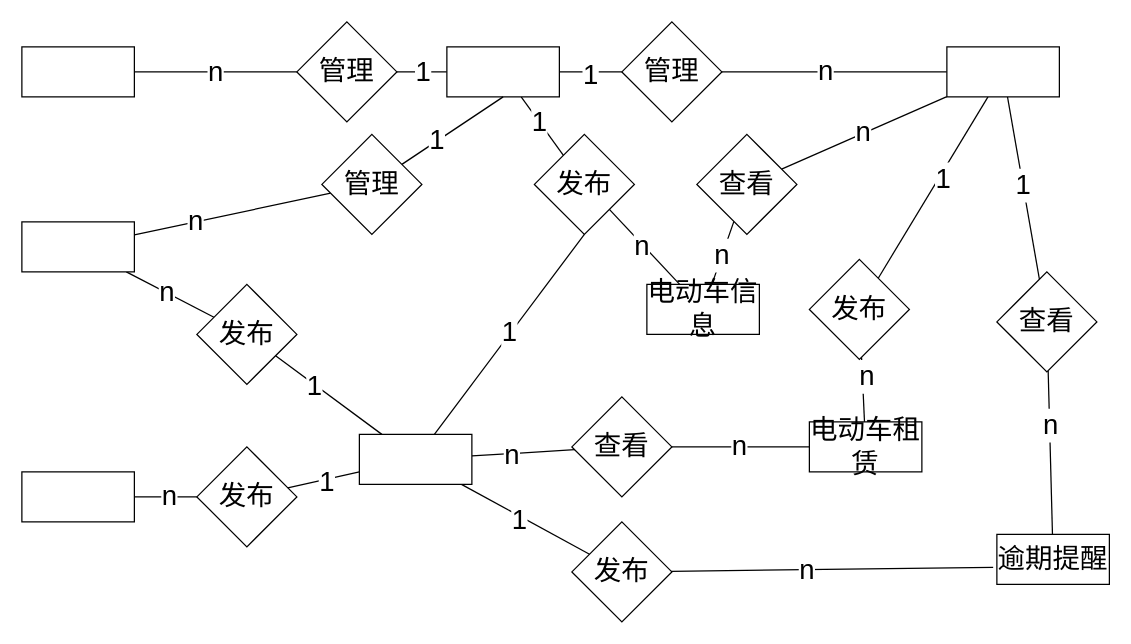
Image size: 1131x644. Some labels were removed from this diagram. The centre of each missing label's shape, as x and y in pixels:
"检验员" goes at pixel 415 458.
"用户" goes at pixel 1002 71.
"电动车分类" goes at pixel 77 71.
"管理员" goes at pixel 502 71.
"还车记录" goes at pixel 77 246.
"违章登记" goes at pixel 77 496.
